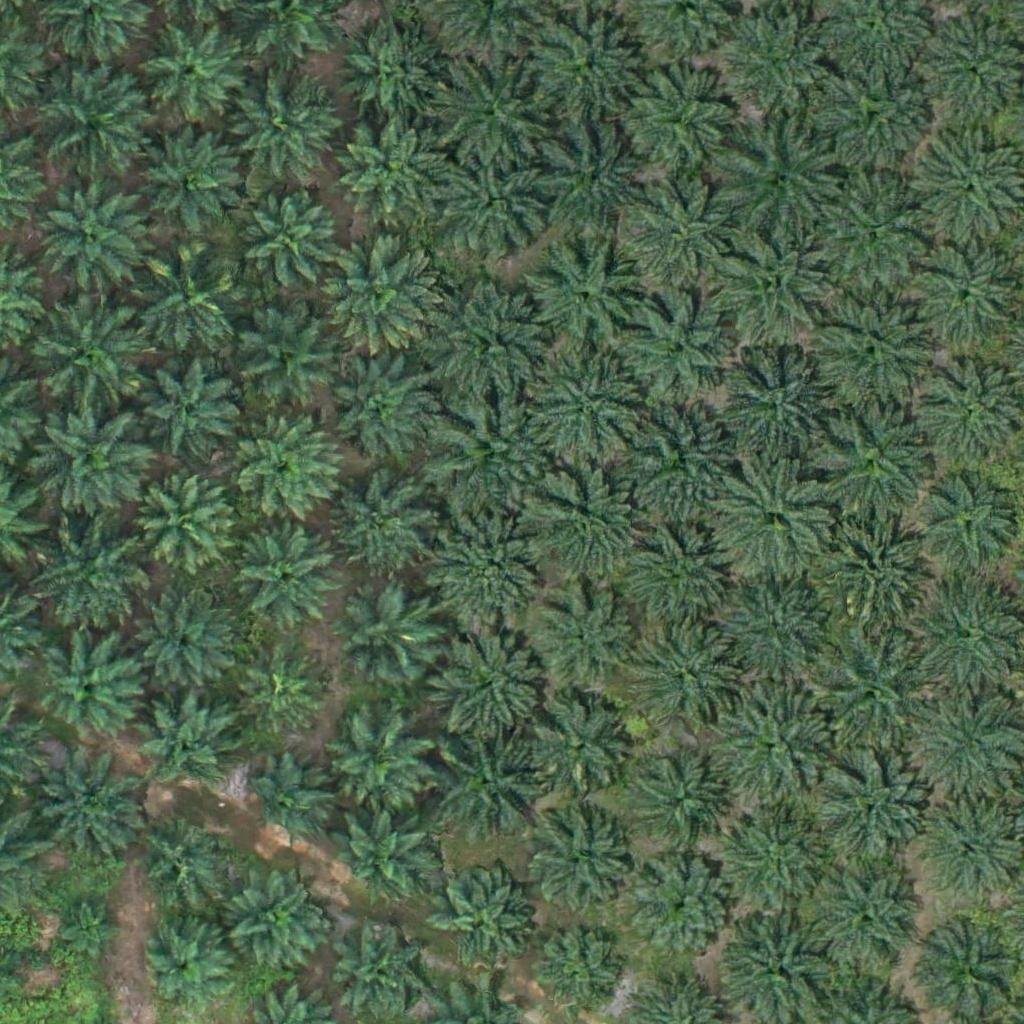Kelapa_Sawit: (30, 401, 155, 527), (319, 225, 444, 351), (315, 342, 440, 468), (432, 283, 557, 409), (432, 394, 557, 520), (532, 113, 657, 239), (719, 119, 844, 245), (708, 225, 833, 351), (716, 354, 841, 480), (809, 290, 934, 416), (809, 172, 934, 298), (816, 56, 941, 182), (429, 503, 554, 629), (520, 468, 645, 594), (710, 800, 835, 926), (710, 678, 835, 804), (712, 458, 837, 584), (820, 499, 945, 625), (810, 622, 935, 748), (811, 751, 936, 877), (440, 44, 565, 169), (527, 346, 652, 471), (424, 620, 549, 745), (712, 11, 825, 125), (910, 238, 1023, 352), (713, 582, 826, 696), (228, 72, 341, 185), (33, 752, 146, 865), (31, 522, 144, 635), (533, 5, 646, 118), (524, 243, 637, 356), (624, 289, 737, 402), (625, 177, 738, 290), (433, 731, 546, 844), (809, 864, 922, 977), (35, 175, 147, 289), (33, 298, 145, 412), (130, 249, 242, 363), (230, 416, 342, 530), (625, 67, 737, 181), (39, 72, 151, 185), (331, 115, 443, 228), (439, 151, 551, 264), (818, 409, 930, 522), (140, 18, 240, 119), (138, 125, 238, 226), (240, 193, 340, 294), (340, 25, 440, 126), (331, 804, 431, 905), (226, 873, 326, 974), (137, 597, 237, 698), (137, 691, 237, 792), (130, 810, 230, 911), (38, 637, 138, 738), (432, 871, 532, 972), (529, 819, 629, 920), (527, 698, 627, 799), (532, 586, 632, 687), (640, 628, 740, 729), (633, 857, 733, 958), (918, 476, 1018, 577), (144, 354, 244, 454), (234, 308, 334, 408), (331, 480, 431, 580), (339, 588, 439, 688), (327, 714, 427, 814), (238, 530, 338, 630), (135, 475, 235, 575), (621, 521, 721, 621), (631, 408, 730, 508), (246, 758, 334, 846), (239, 650, 327, 738), (333, 928, 421, 1016), (636, 762, 724, 850), (144, 925, 231, 1014), (532, 929, 619, 1017), (60, 893, 122, 956)
